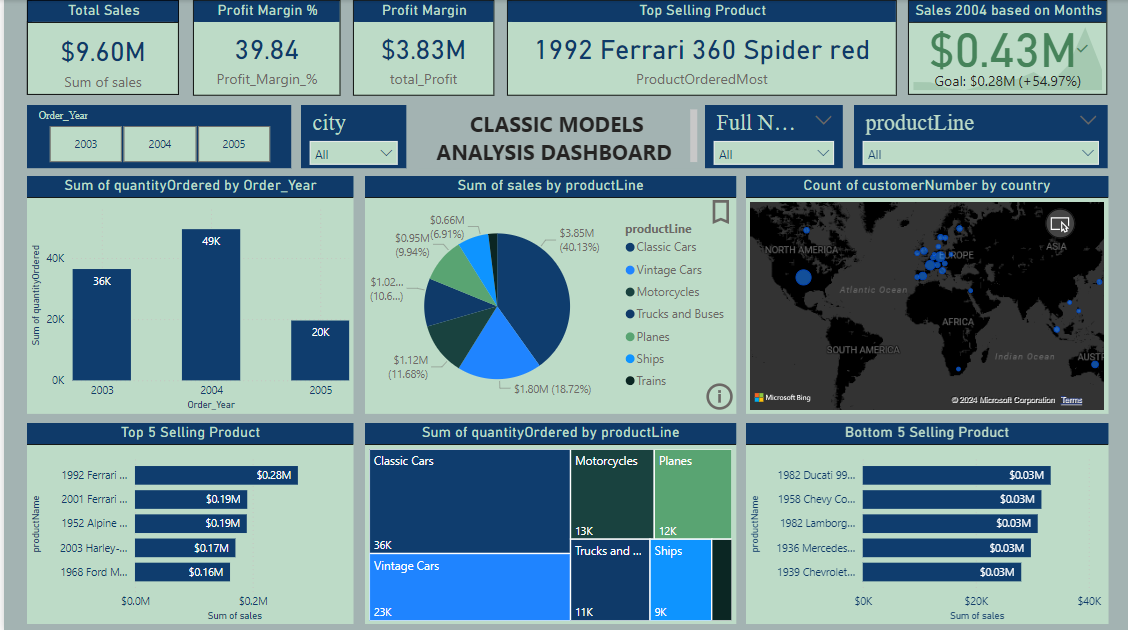

Layout of this report page (visuals, bound fields, positions):
{"tool":"powerbi","page":{"name":"Page 2","canvas":[1280,720],"ordinal":1},"visuals":[{"type":"barChart","title":"Top 5 Selling Product","fields":{"Category":["Products.productName"],"Y":["orders_details.sales"]},"box":[26,481.8,372.4,229.2],"z":0},{"type":"pieChart","fields":{"Category":["Products.productLine"],"Y":["orders_details.sales"]},"box":[411.5,200.5,423.2,270.8],"z":1000},{"type":"card","title":" Profit Margin","fields":{"Values":["orders_details.total_Profit"]},"box":[398.1,0,160.8,108.7],"z":2000},{"type":"card","title":"Top Selling Product","fields":{"Values":["orders_details.ProductOrderedMost"]},"box":[572.6,0,444,108.7],"z":3000},{"type":"slicer","fields":{"Values":["Orders1.Order_Year"]},"box":[26,119.8,300.8,71.6],"z":4000},{"type":"kpi","title":"Sales 2004 based on Months","fields":{"Goal":["Orders1.sales__2003"],"TrendLine":["Orders1.month_name2"],"Indicator":["Orders1.sales__2004"]},"box":[1029.4,0,227.5,108],"z":5000},{"type":"treemap","fields":{"Group":["Products.productLine"],"Values":["orders_details.quantityOrdered"]},"box":[411.5,481.8,423.2,229.2],"z":6000},{"type":"map","fields":{"Size":["Customers.customerNumber"],"Category":["Customers.country"]},"box":[845.1,200.5,412.8,270.8],"z":7000},{"type":"clusteredColumnChart","fields":{"Category":["Orders1.Order_Year"],"Y":["orders_details.quantityOrdered"]},"box":[26,200.5,372.4,270.8],"z":8000},{"type":"card","title":" Profit Margin %","fields":{"Values":["Orders1.Profit_Margin_%"]},"box":[215.9,0,168.4,108.7],"z":9000},{"type":"cardVisual","title":"Total Sales","fields":{"Data":["orders_details.sales"]},"box":[26,0,173.2,108.1],"z":10000},{"type":"slicer","fields":{"Values":["Offices.city"]},"box":[338.4,119.6,119.6,71.8],"z":11000},{"type":"slicer","fields":{"Values":["Employees.Full Name"]},"box":[798.6,119.6,157.2,71.8],"z":12000},{"type":"slicer","fields":{"Values":["Productlines.productLine"]},"box":[968.8,119.8,289.1,71.6],"z":13000},{"type":"card","fields":{"Values":["orders_details.sales"]},"box":[26,24.7,173.2,83.3],"z":14000},{"type":"barChart","title":"Bottom 5 Selling Product","fields":{"Category":["Products.productName"],"Y":["orders_details.sales"]},"box":[845.1,481.8,412.8,229.2],"z":15000},{"type":"actionButton","box":[795,431.2,63.8,40],"z":16000},{"type":"actionButton","box":[798.8,222.5,36.2,37.5],"z":17000},{"type":"textbox","box":[472.8,119.6,322.4,71.8],"z":18000}]}

Visuals, with their boxes in screenshot pixels (x1, y1, x2, y2), scaled from the page's 1280x720 canvas onto the 1128x630 screenshot:
"Top 5 Selling Product" barChart: (23,422,351,622)
pieChart - Products.productLine x orders_details.sales: (363,175,736,412)
" Profit Margin" card: (351,0,493,95)
"Top Selling Product" card: (505,0,896,95)
slicer - Orders1.Order_Year: (23,105,288,167)
"Sales 2004 based on Months" kpi: (907,0,1108,94)
treemap - Products.productLine x orders_details.quantityOrdered: (363,422,736,622)
map - Customers.customerNumber x Customers.country: (745,175,1109,412)
clusteredColumnChart - Orders1.Order_Year x orders_details.quantityOrdered: (23,175,351,412)
" Profit Margin %" card: (190,0,339,95)
"Total Sales" cardVisual: (23,0,176,95)
slicer - Offices.city: (298,105,404,167)
slicer - Employees.Full Name: (704,105,842,167)
slicer - Productlines.productLine: (854,105,1109,167)
card - orders_details.sales: (23,22,176,94)
"Bottom 5 Selling Product" barChart: (745,422,1109,622)
actionButton: (701,377,757,412)
actionButton: (704,195,736,228)
textbox: (417,105,701,167)
